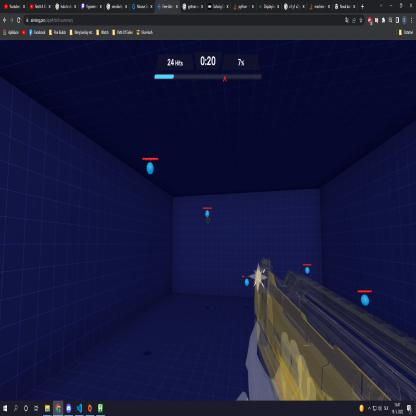sphere: (360, 294, 370, 306), (146, 162, 155, 175), (244, 278, 250, 287), (205, 210, 210, 218), (305, 266, 310, 274)
